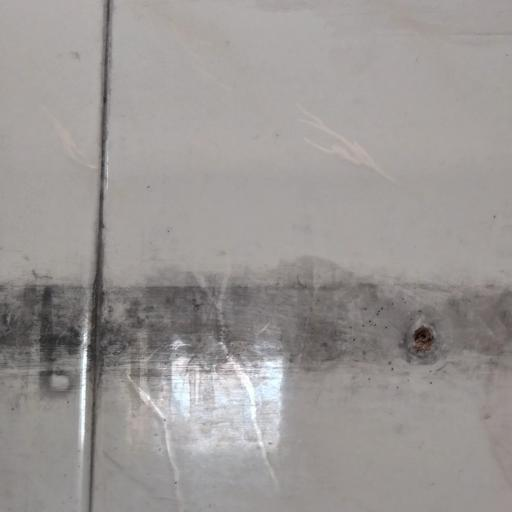stain: (0, 256, 512, 429)
